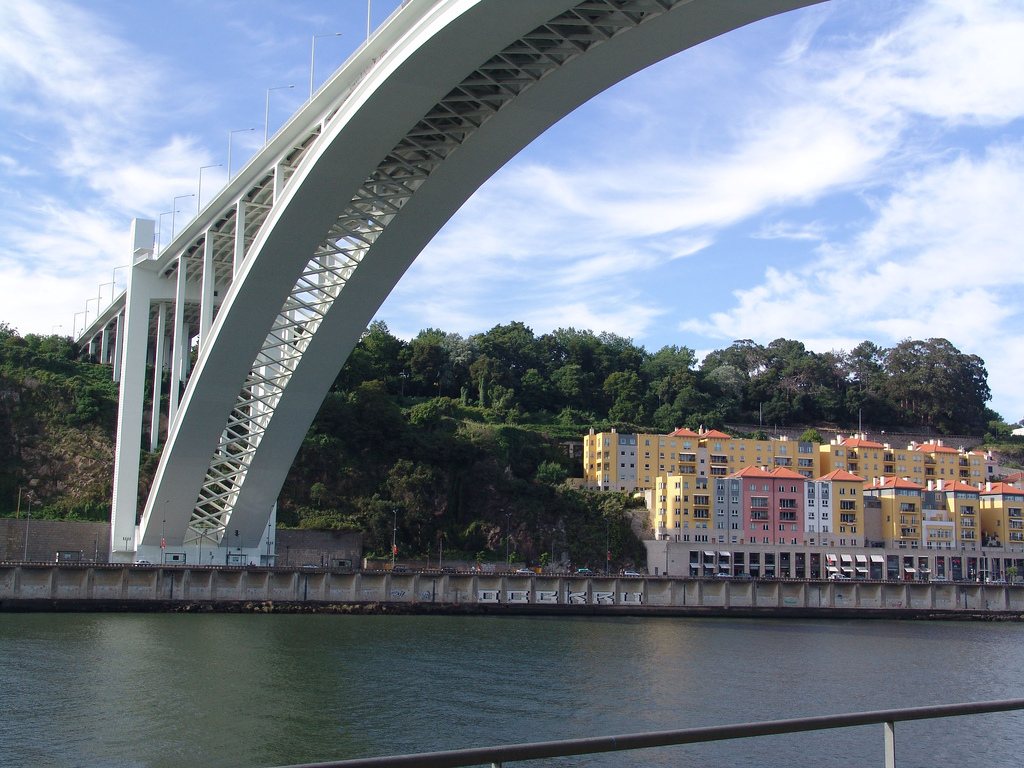arrabida: (72, 0, 1023, 570)
